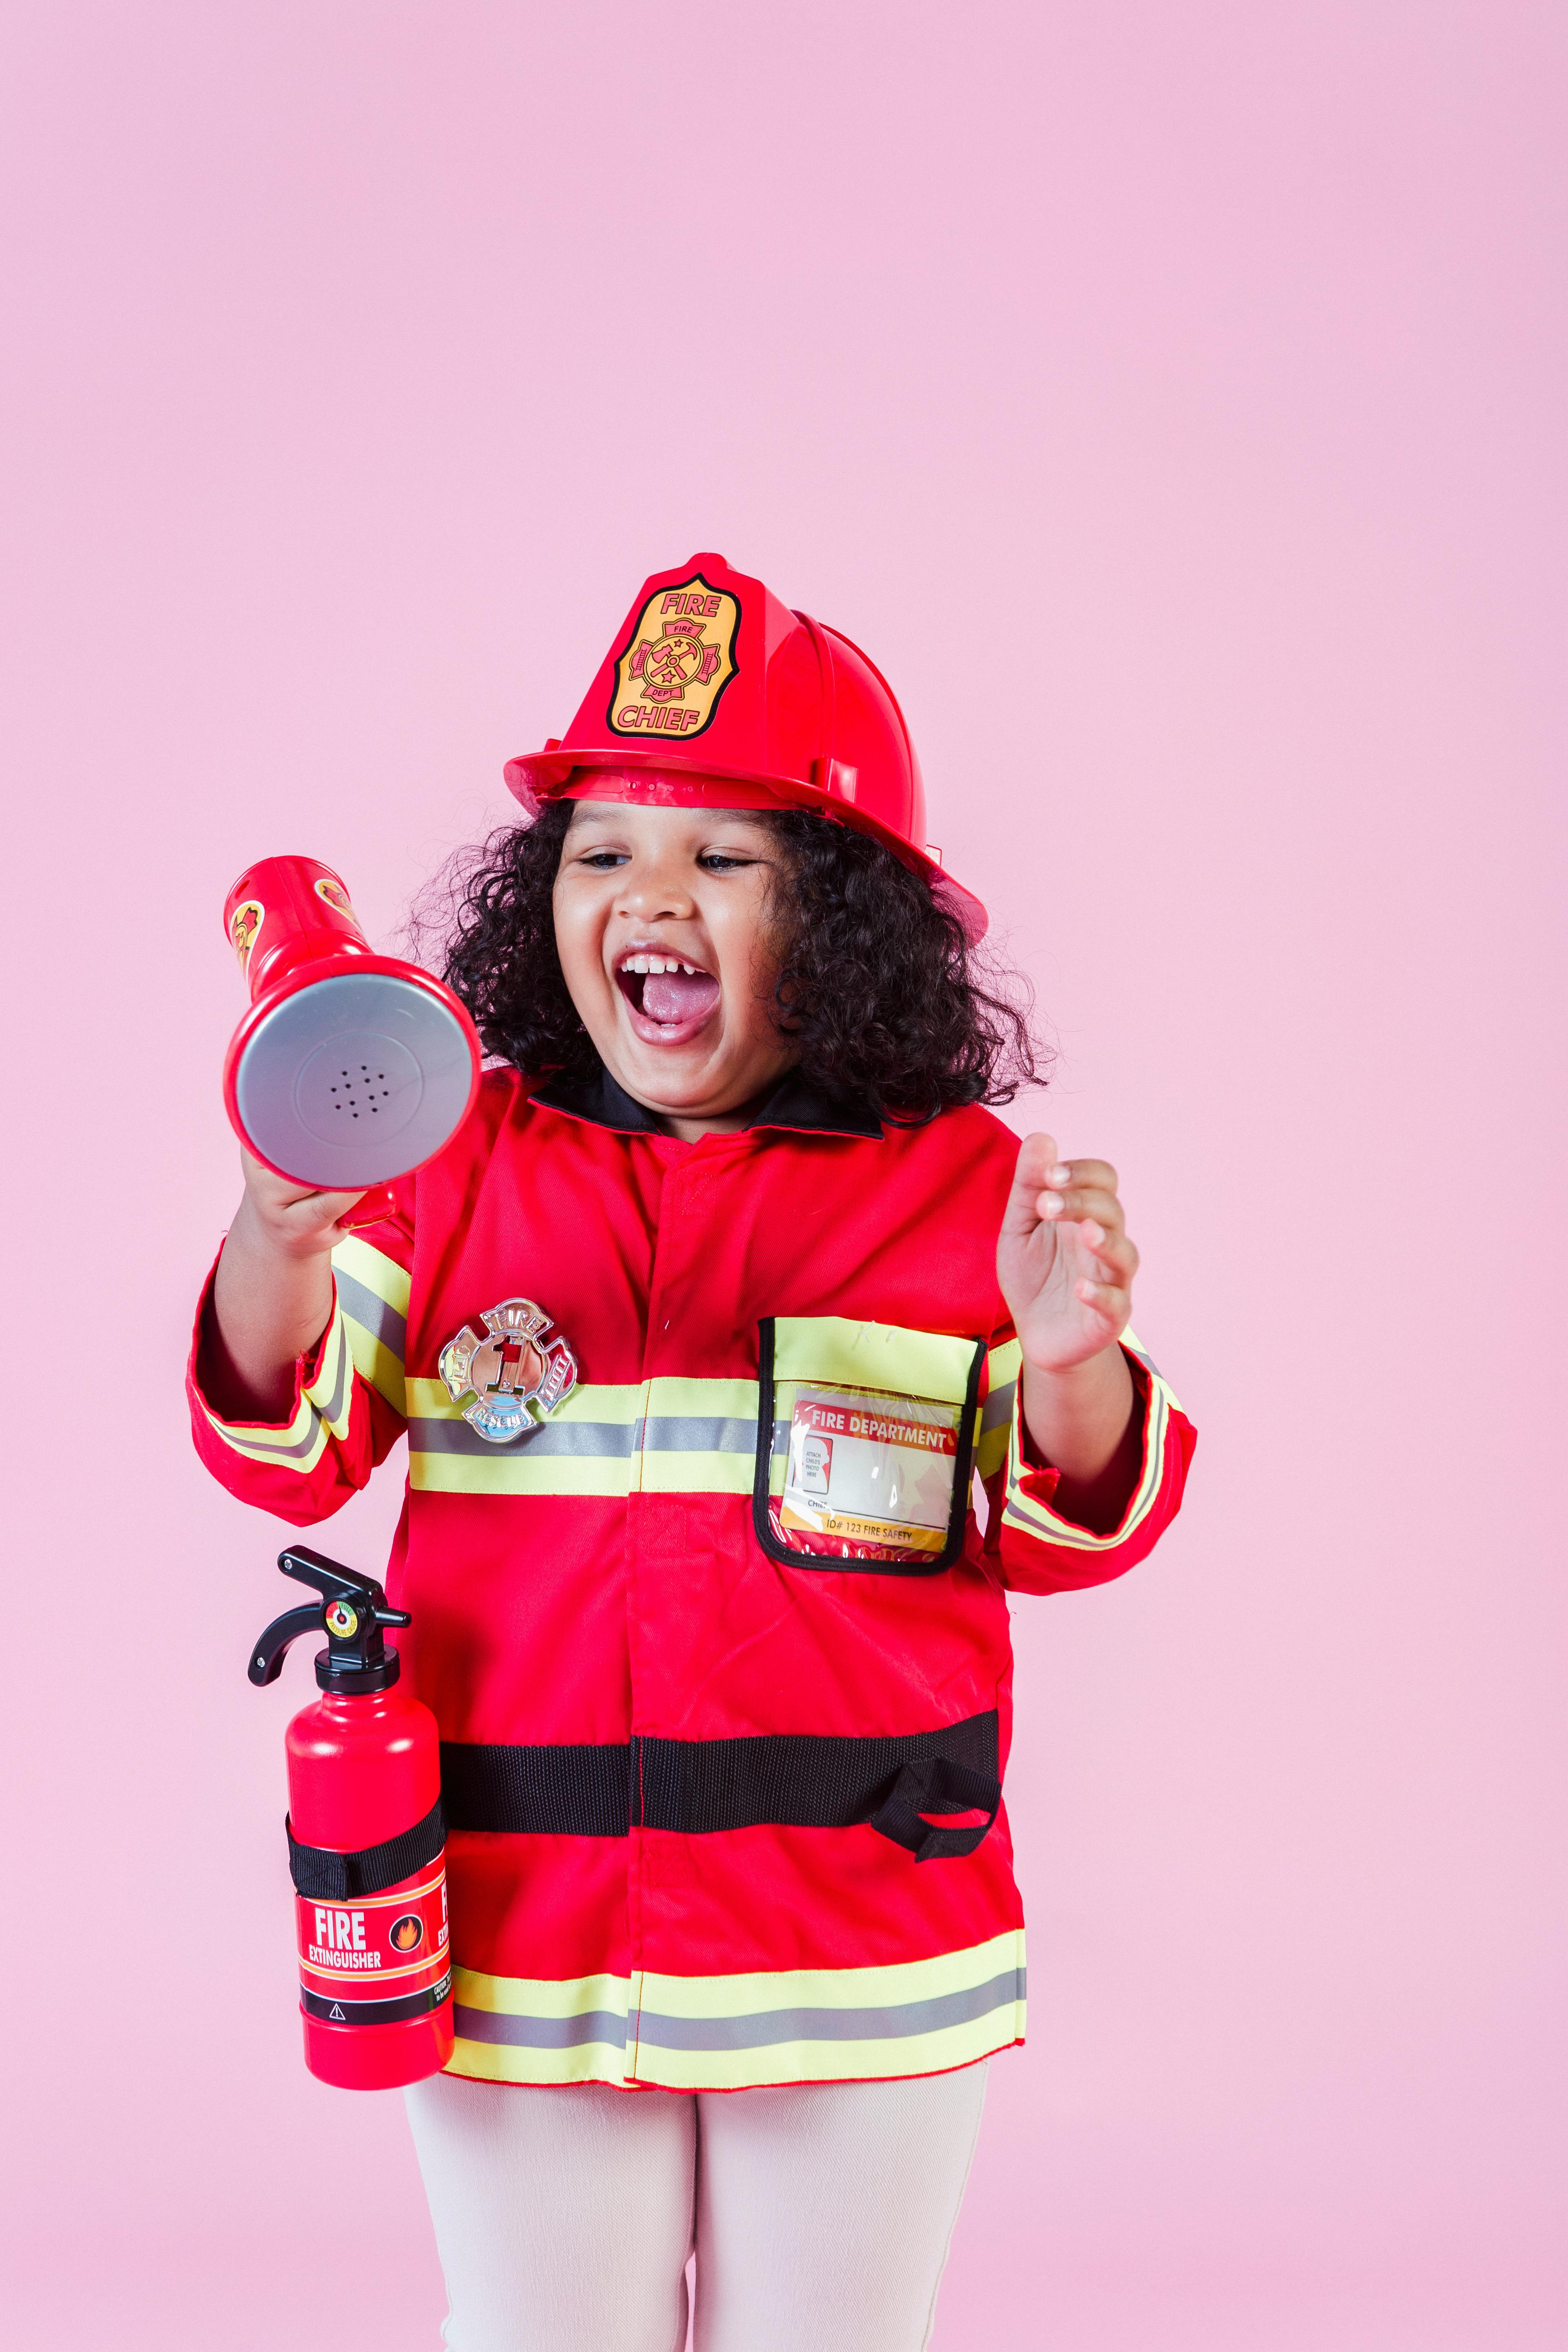extintor: (241, 1536, 458, 2102)
